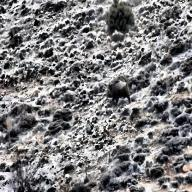boar: (106, 72, 136, 107)
